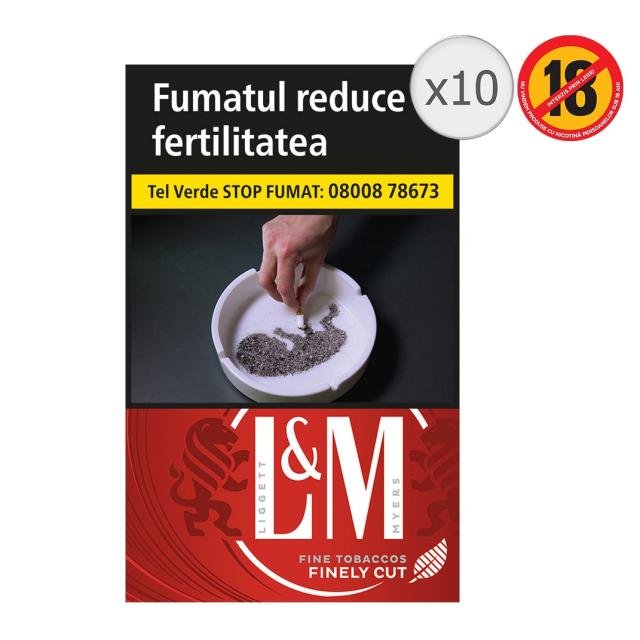lm: (122, 58, 464, 606)
